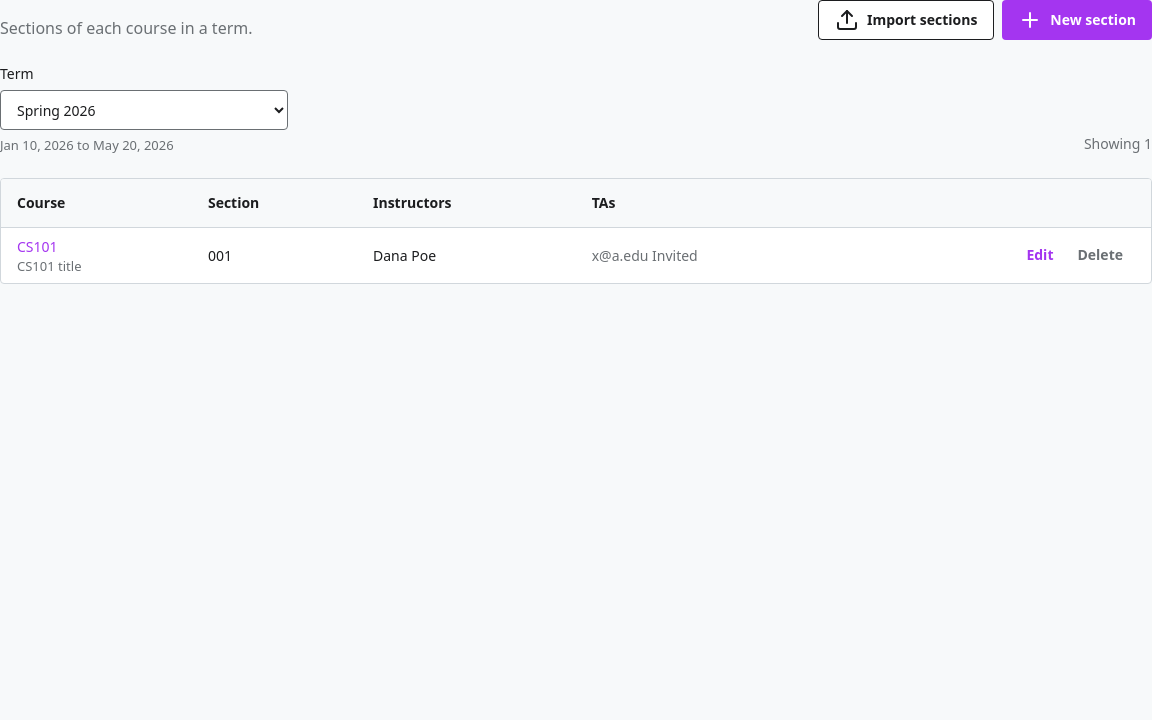
Test case: creates and deletes a section
The image size is (1152, 720).
Expected: the link "CS101" is shown, [17,236,58,256]
Step 1. Click the button "New section" → (1077, 20), box [1002,0,1151,40]
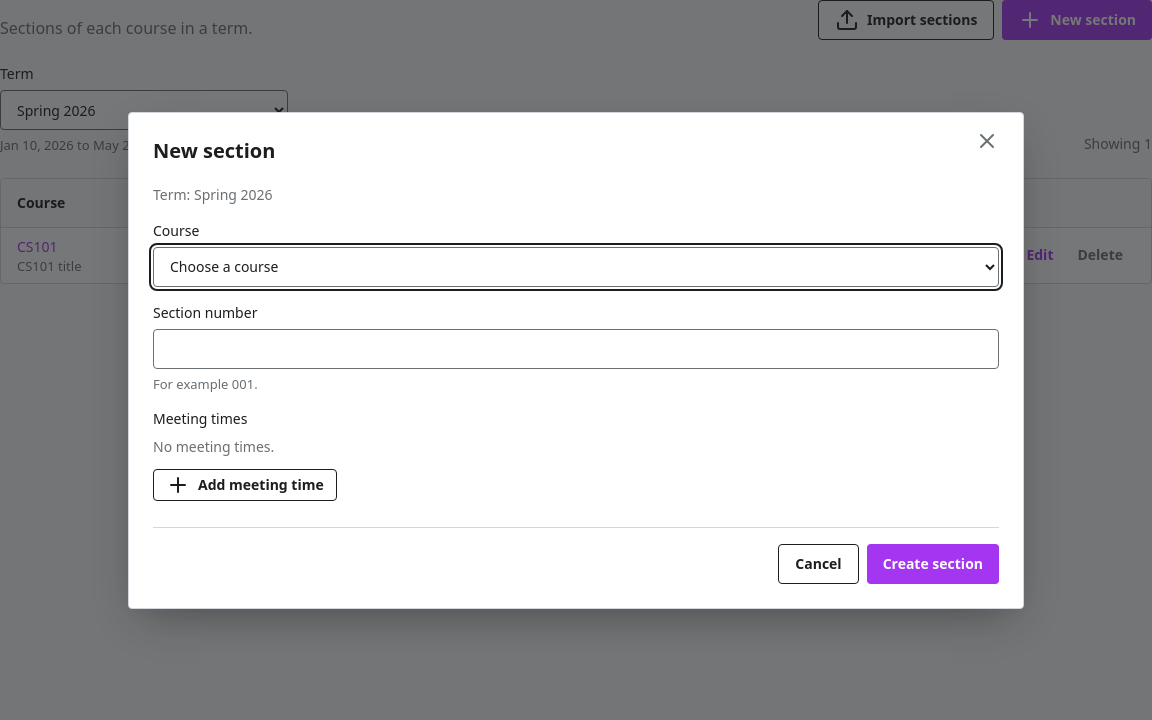
Step 2. Select "CS102 · CS102 title" in the dropdown labelled "Course" → (576, 266), box [153,246,999,286]
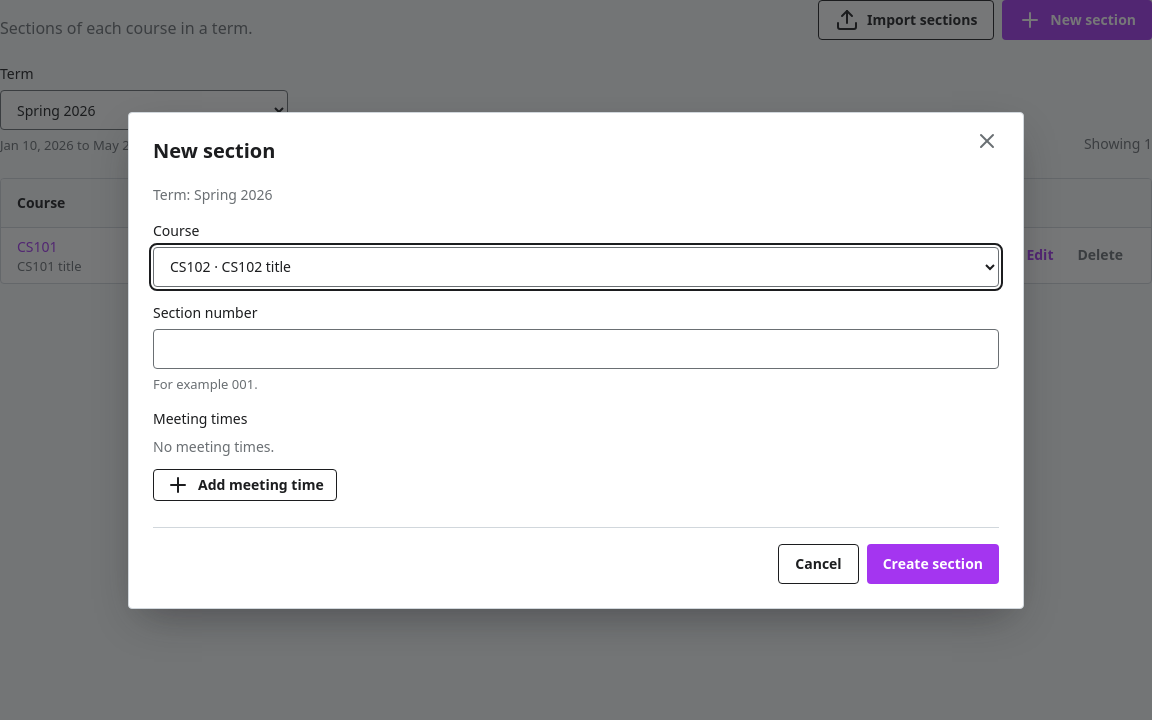
Step 3. Type " 002 " into the field labelled "Section number" → (576, 348), box [153,328,999,368]
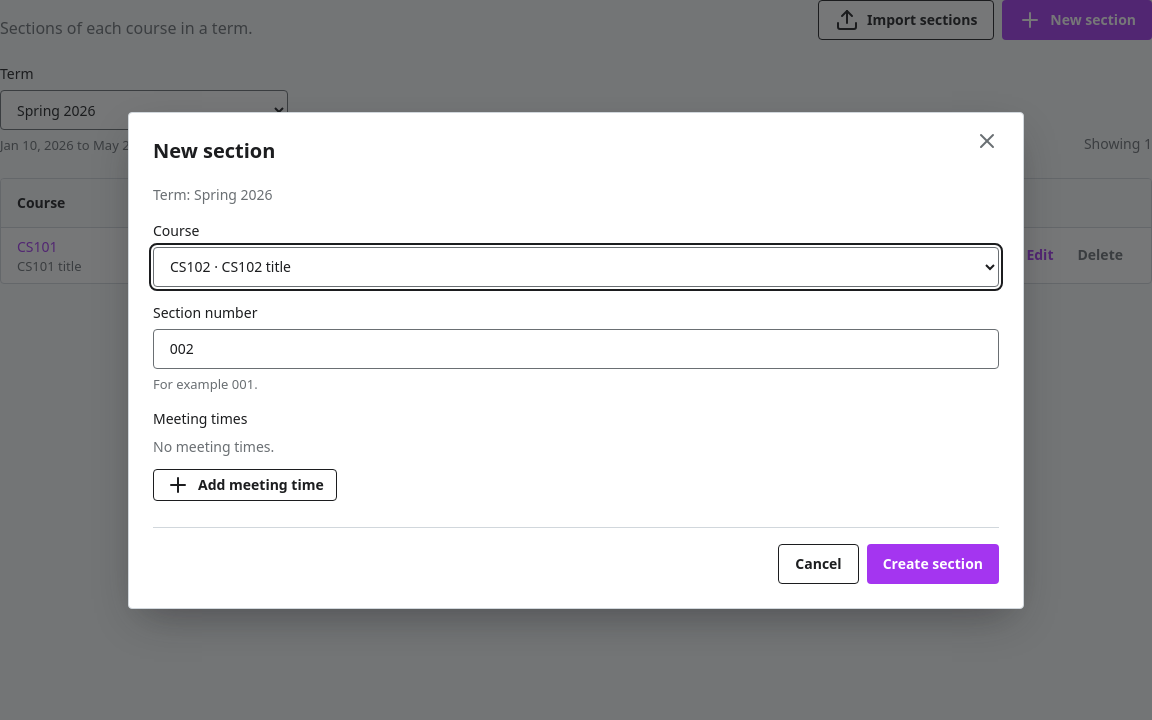
Step 4. Click the button "Create section" → (933, 564), box [867,544,999,584]
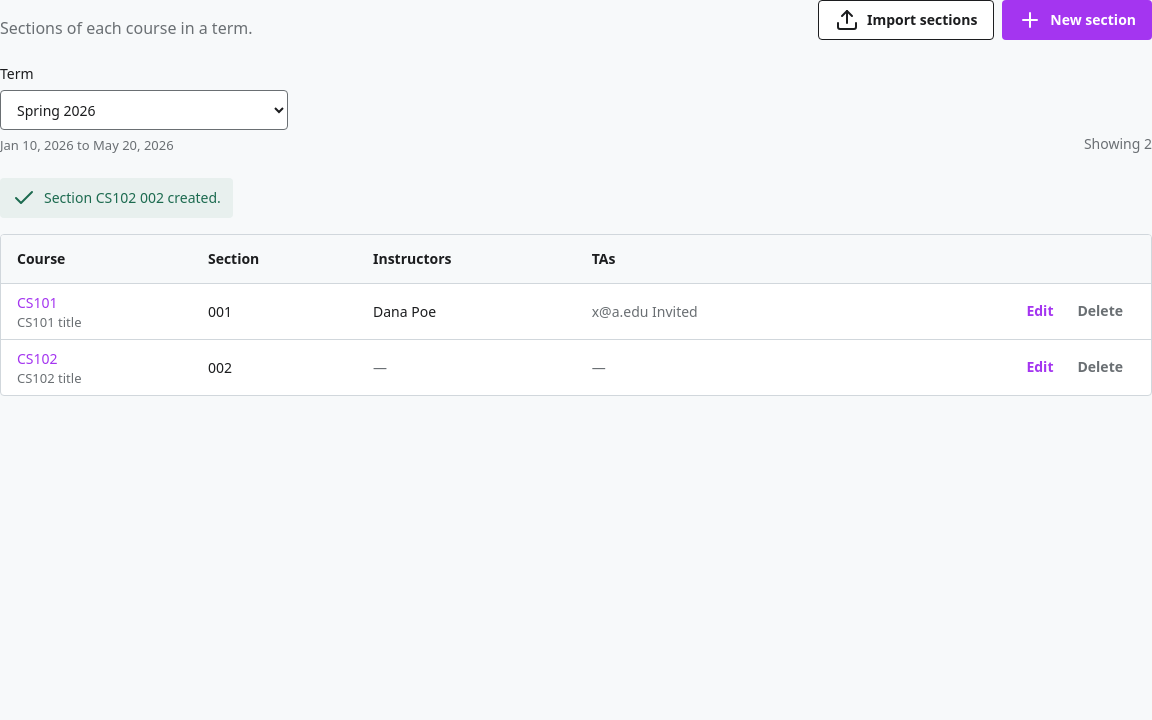
Now the text "Section CS102 002 created." is shown, box [0,178,233,218]
Step 5. Click the button with aria-label "Delete CS101 section 001" → (1100, 311), box [1066,295,1135,327]
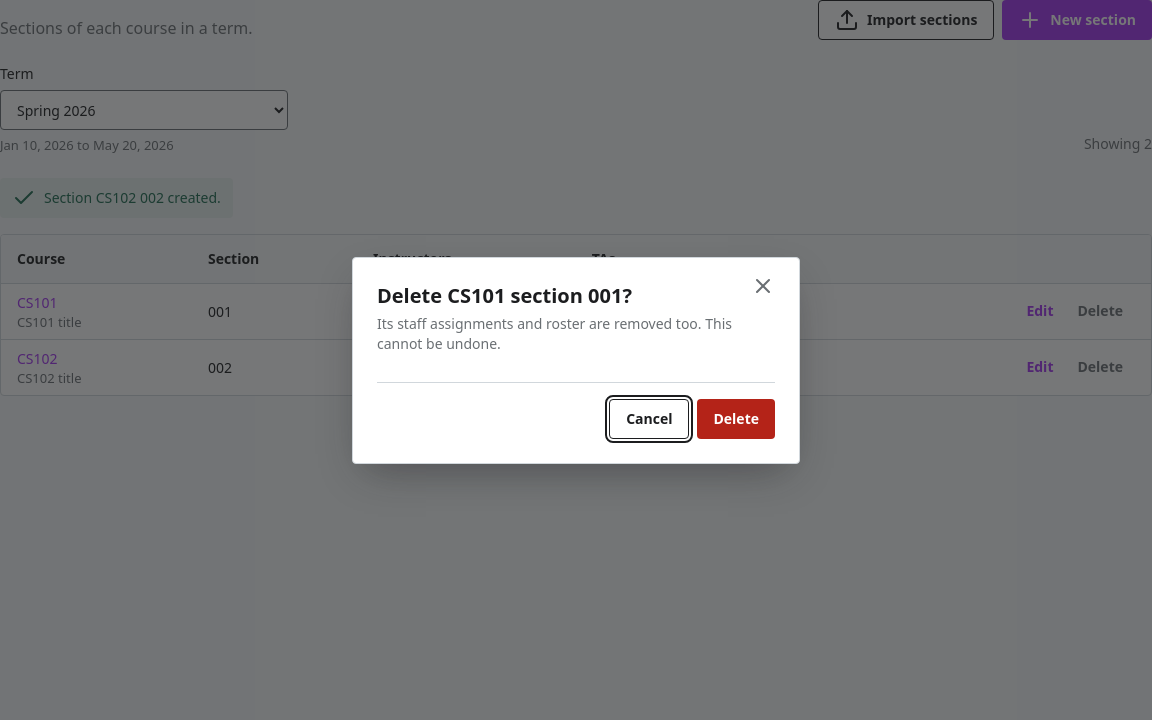
Step 6. Click the button "Delete" → (736, 418), box [698,398,775,438]
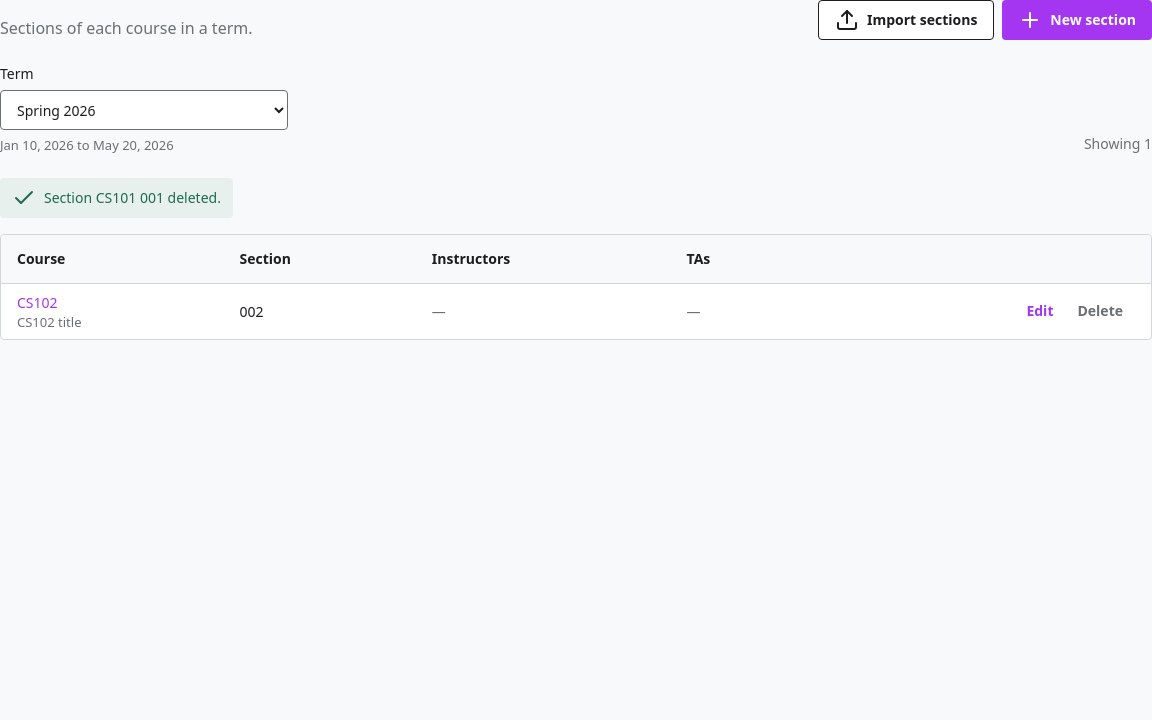
Now the text "Section CS101 001 deleted." is shown, box [0,178,233,218]
